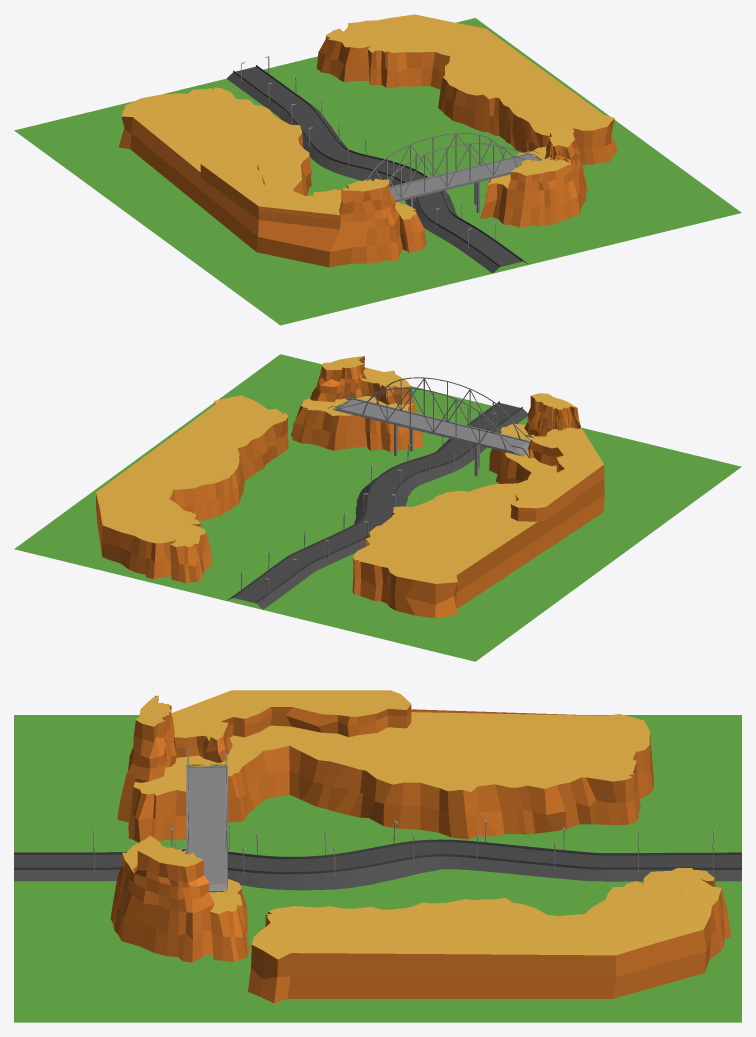
3 renders of one model, top to bottom at view 1: azimuth 30°, elevation 25°; view 2: azimuth 150°, elevation 25°; view 3: azimuth 270°, elevation 25°, orthographic. The views are drawn at different scales.
Parts seen in each view (by area): view 1: Cube; view 2: Cube; view 3: Cube.
Boxes of the visible parts, x1,y1,x2,y2 form: Cube: (14,14,741,325); Cube: (14,354,741,661); Cube: (14,690,741,1022).
Bounding box in the file's own units: 20000 × 3149 × 20000.
